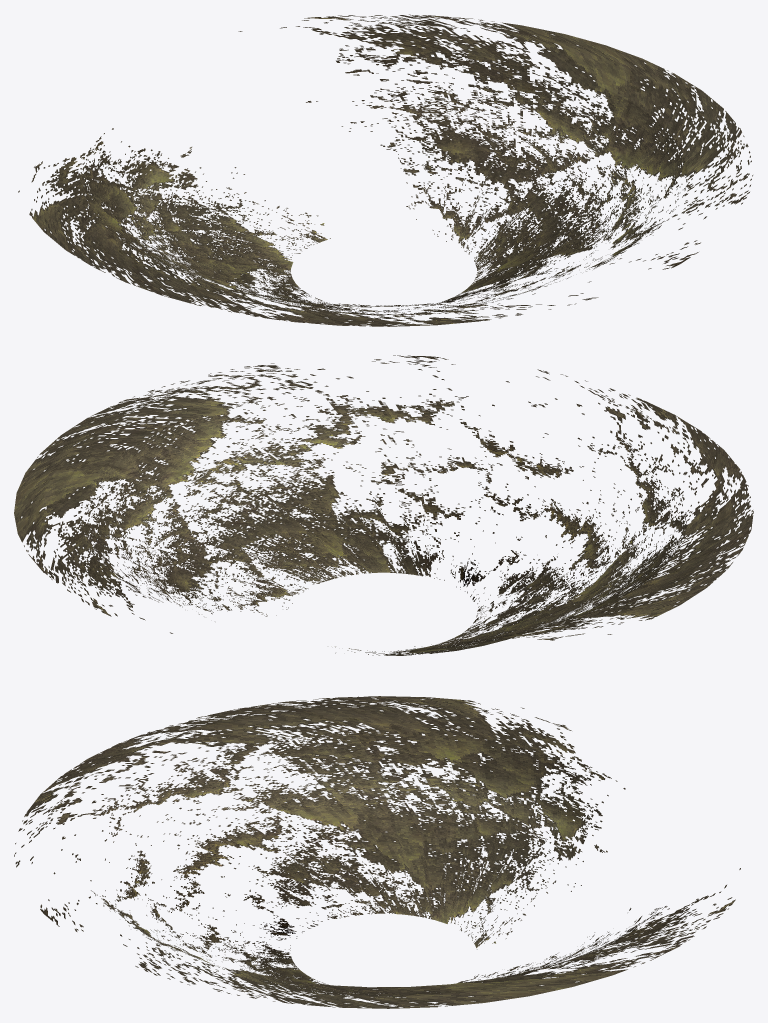
Rendered from Embudo.glb.
3 views of the same model, one above another, from view 1: azimuth 30°, elevation 25°; view 2: azimuth 150°, elevation 25°; view 3: azimuth 270°, elevation 25° (orthographic).
Parts seen in each view (by area): view 1: EmbudoAgua; view 2: EmbudoAgua; view 3: EmbudoAgua.
Part boxes in pixels (x1=…): EmbudoAgua: x1=18, y1=14, x2=752, y2=326; EmbudoAgua: x1=14, y1=355, x2=753, y2=655; EmbudoAgua: x1=14, y1=696, x2=740, y2=1008.
Bounding box in the file's own units: 9.73 × 1.47 × 9.73.
Materials: 1 (1 with a texture image).
